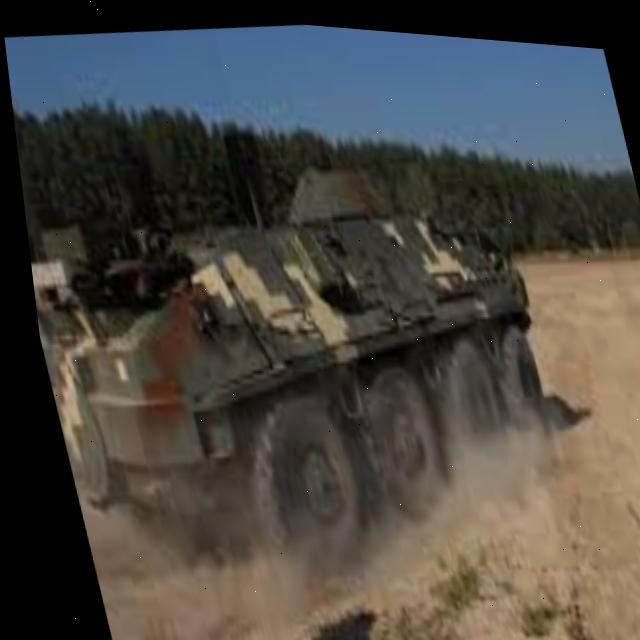MIL_APC: (10, 105, 605, 615)
